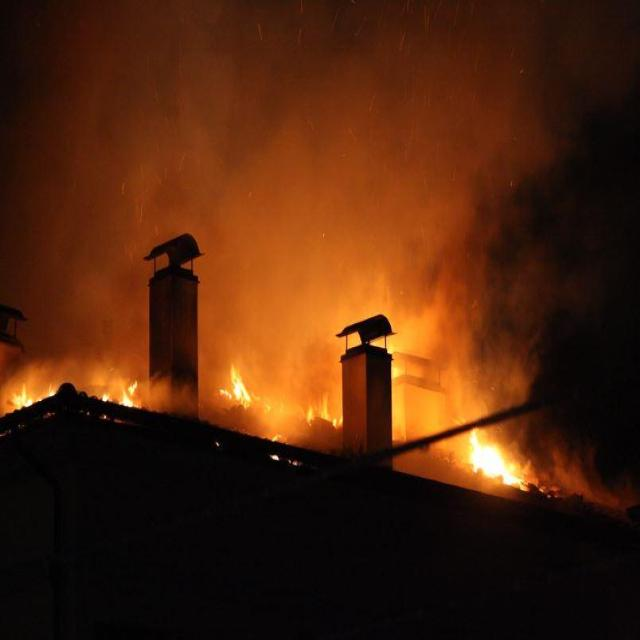Fire: (455, 416, 532, 492), (5, 366, 52, 416), (303, 384, 347, 434), (102, 367, 142, 419), (212, 365, 254, 413)
